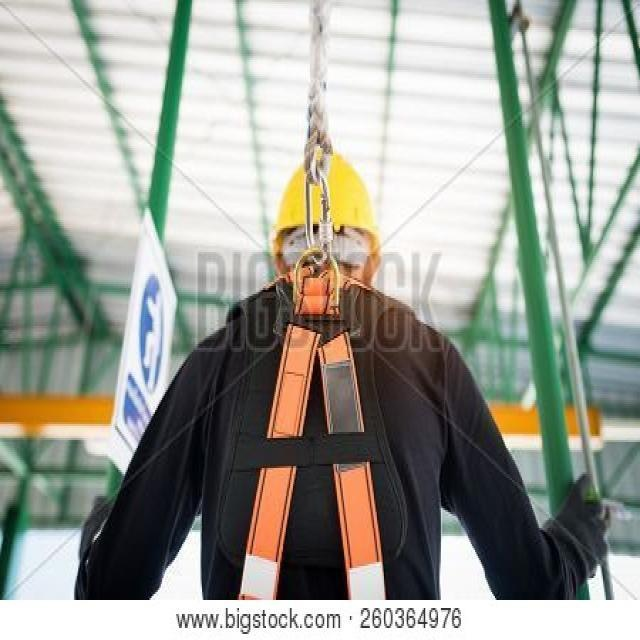Arnes_seguridad: (232, 269, 394, 602)
